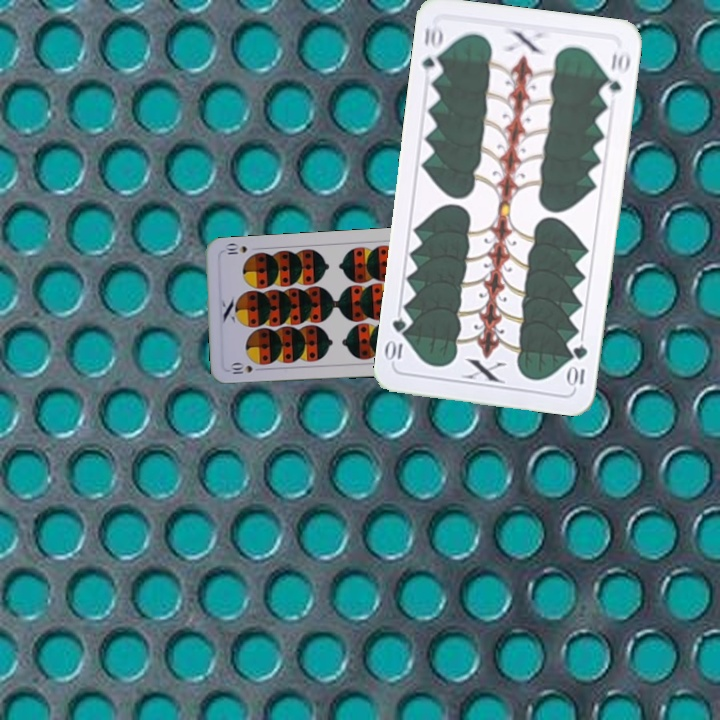G10: (418, 21, 446, 81), (565, 340, 590, 389)
S10: (225, 360, 255, 377)
